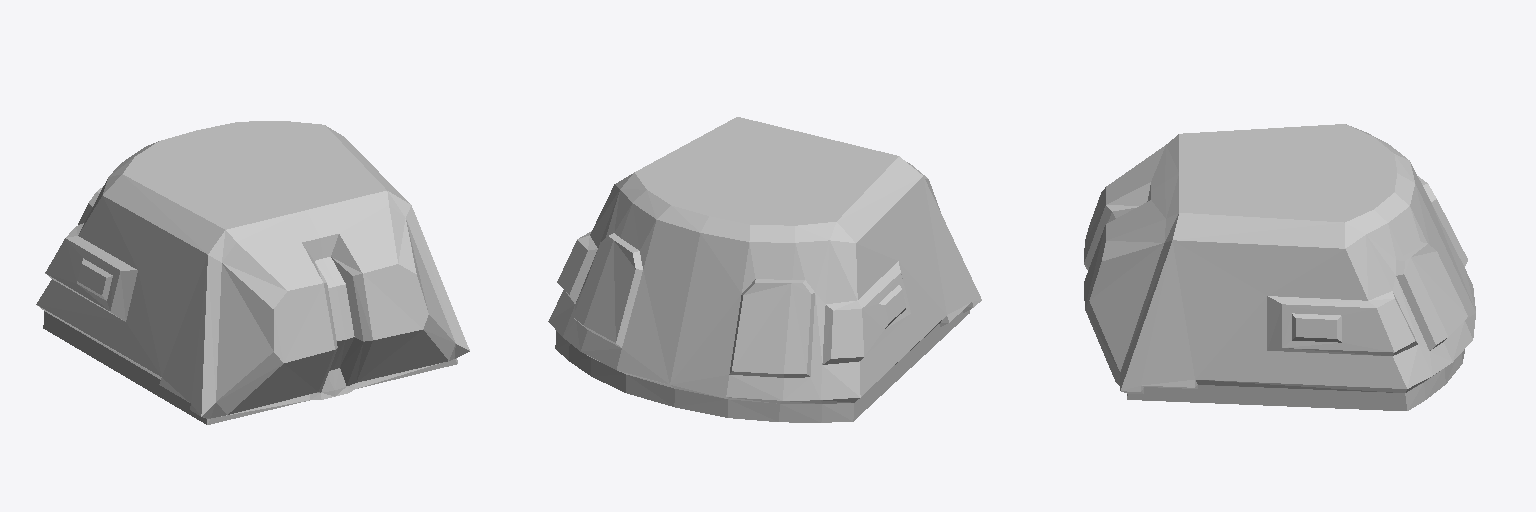
File: gun5-1.obj
3 views of the same model, side by side, from view 1: azimuth 30°, elevation 25°; view 2: azimuth 150°, elevation 25°; view 3: azimuth 270°, elevation 25° (orthographic).
Visible parts, largest first — view 1: Tai_HeavyCruiserGun; view 2: Tai_HeavyCruiserGun; view 3: Tai_HeavyCruiserGun.
Boxes of the visible parts, x1,y1,x2,y2 form: Tai_HeavyCruiserGun: [36, 121, 469, 424]; Tai_HeavyCruiserGun: [548, 117, 981, 422]; Tai_HeavyCruiserGun: [1084, 124, 1475, 410].
Bounding box in the file's own units: 39.37 × 19.94 × 42.83.